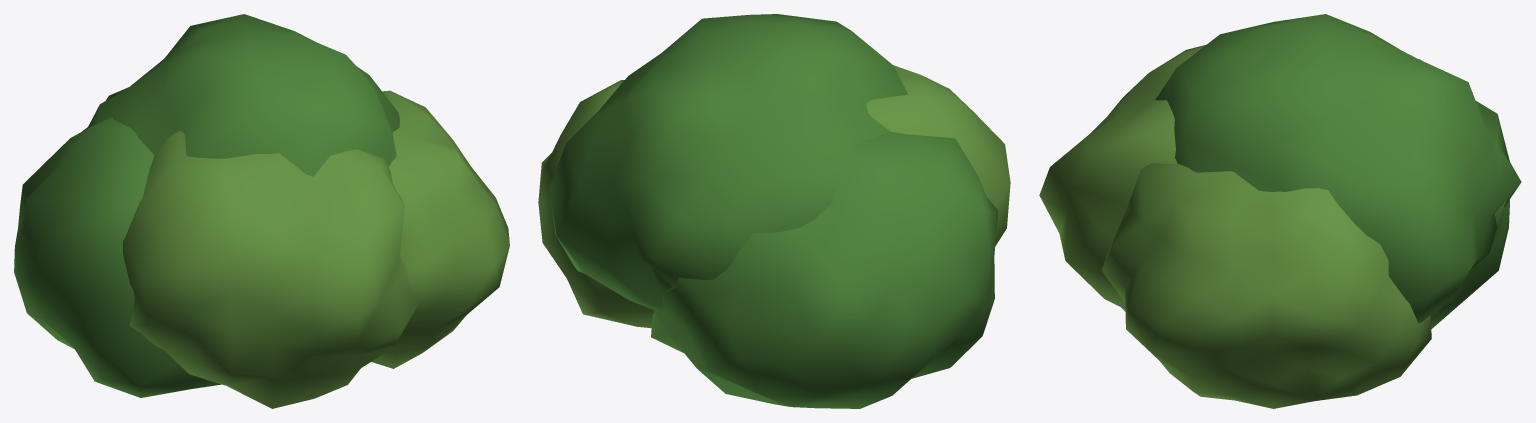
File: bush_3.glb
3 renders of one model, left to right at view 1: azimuth 30°, elevation 25°; view 2: azimuth 150°, elevation 25°; view 3: azimuth 270°, elevation 25°, orthographic. The views are drawn at different scales.
Parts seen in each view (by area): view 1: bush_3; view 2: bush_3; view 3: bush_3.
Part boxes in pixels (x1,y1,x2,y2): bush_3: (14, 14, 509, 408); bush_3: (538, 14, 1010, 408); bush_3: (1039, 14, 1521, 408).
Bounding box in the file's own units: 1.82 × 1.26 × 1.77.
